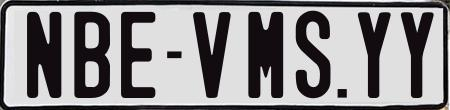B: (72, 11, 108, 100)
E: (119, 10, 157, 100)
M: (248, 11, 283, 103)
N: (27, 11, 64, 98)
S: (295, 11, 331, 99)
V: (191, 11, 229, 99)
Y: (400, 10, 436, 100), (356, 9, 390, 95)
